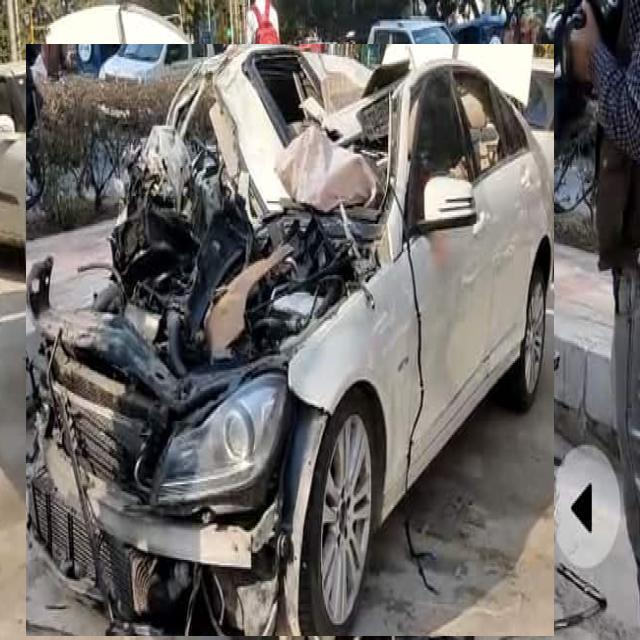accident: (26, 45, 554, 636)
car: (367, 20, 481, 84)
